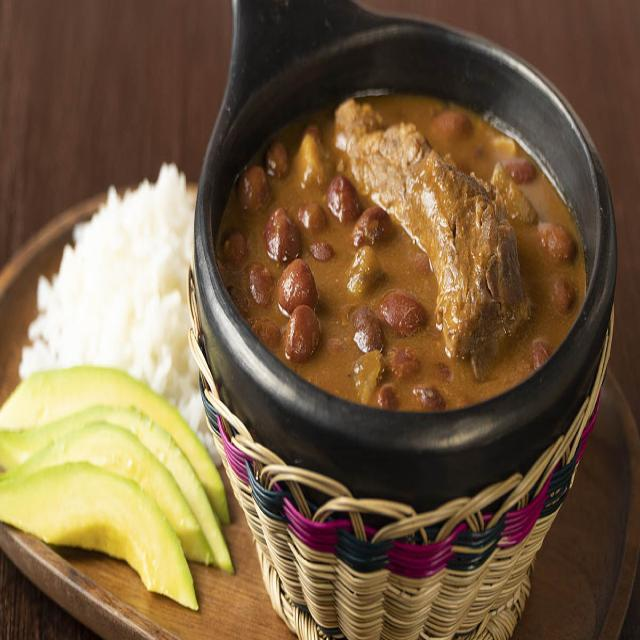aguacate: (0, 367, 238, 619)
arroz: (15, 162, 215, 406)
frijoles: (208, 68, 599, 426)
